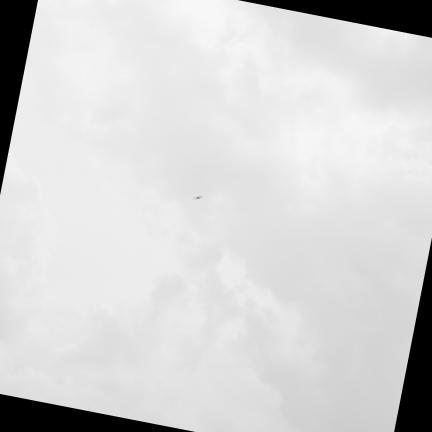Shahed: (193, 196, 202, 199)
